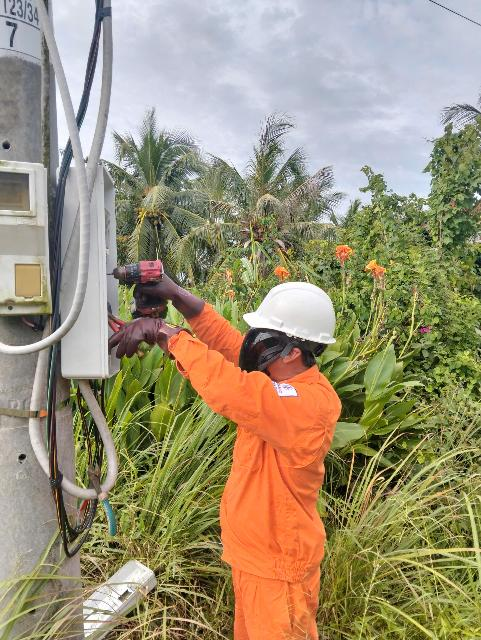gloves: (127, 263, 218, 332), (105, 302, 196, 367)
helmet: (237, 270, 348, 358)
